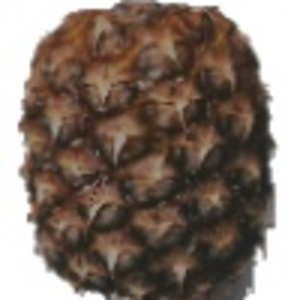abacaxi: (19, 3, 284, 293)
